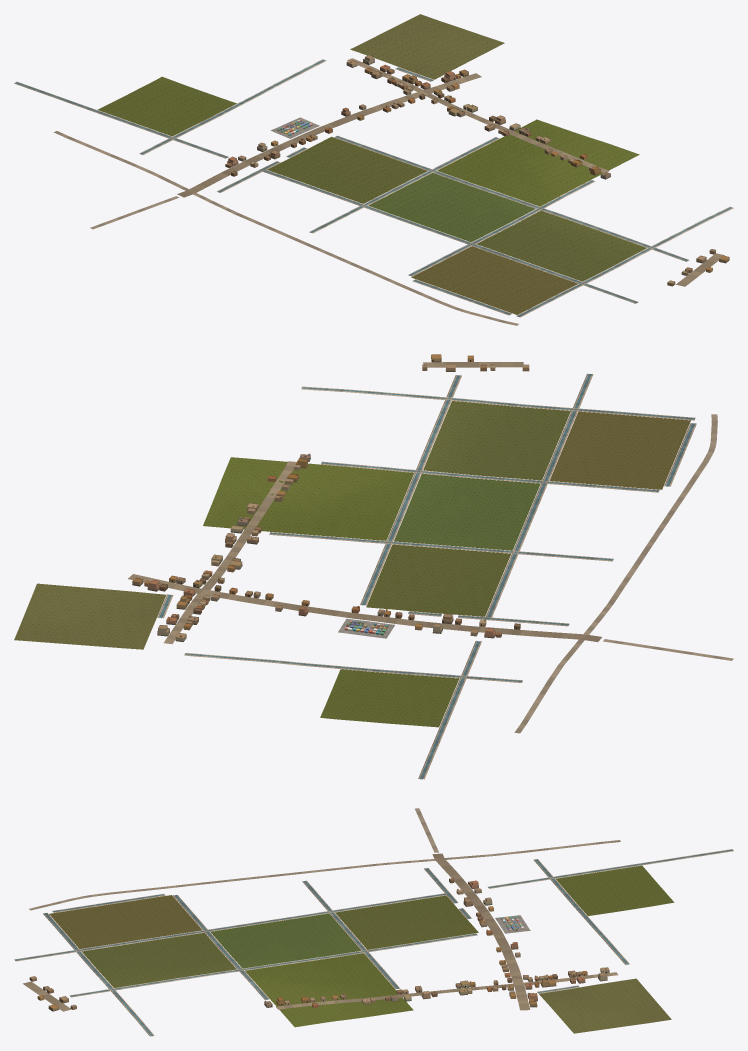
Rendered from uruk_quarter_02.glb.
3 renders of one model, top to bottom at view 1: azimuth 30°, elevation 25°; view 2: azimuth 150°, elevation 25°; view 3: azimuth 270°, elevation 25°, orthographic. The views are drawn at different scales.
Visible parts, largest first — view 1: uruk_quarter_02; view 2: uruk_quarter_02; view 3: uruk_quarter_02.
Part boxes in pixels (left/top/right/bottom): uruk_quarter_02: left=14, top=14, right=733, bottom=325; uruk_quarter_02: left=14, top=354, right=733, bottom=779; uruk_quarter_02: left=14, top=808, right=733, bottom=1036.
Size of the model in its own units: 740 by 11.81 by 978.
22 materials, 6 textured.
